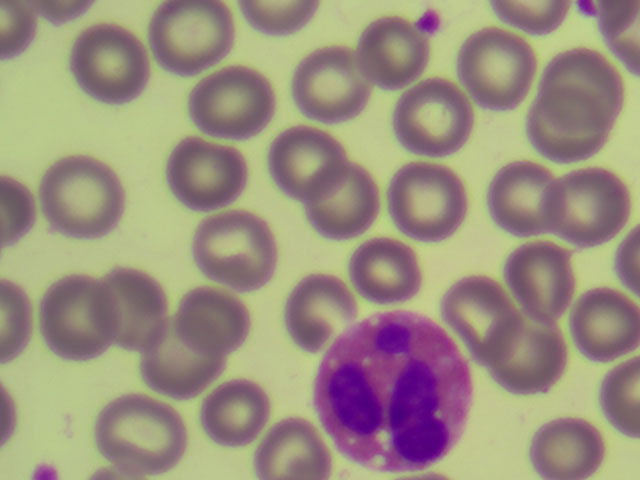Platelets: (24, 452, 64, 480), (414, 7, 444, 39), (578, 1, 599, 20)
RBC: (67, 17, 158, 102), (40, 156, 131, 241), (31, 276, 122, 361), (79, 259, 170, 344), (159, 280, 250, 365), (138, 315, 229, 400), (192, 218, 283, 303), (163, 131, 254, 216), (184, 71, 275, 156), (152, 3, 243, 88), (284, 43, 375, 128), (341, 13, 432, 98), (389, 71, 480, 156), (251, 117, 342, 202), (298, 150, 389, 235), (380, 160, 471, 245), (349, 233, 440, 318), (271, 260, 362, 345), (433, 270, 524, 355), (478, 316, 569, 401), (499, 242, 590, 327), (547, 158, 638, 243), (480, 152, 571, 237), (514, 90, 605, 175), (533, 42, 624, 127), (454, 22, 545, 107), (549, 278, 640, 363), (524, 395, 615, 480), (247, 395, 338, 480), (189, 362, 280, 447), (96, 387, 187, 472)
WBC: (318, 315, 469, 472)
